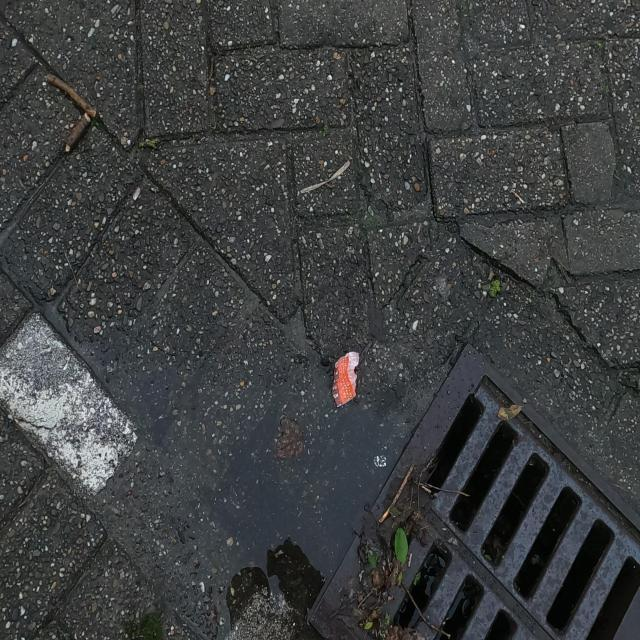Plastic: (330, 350, 360, 408)
